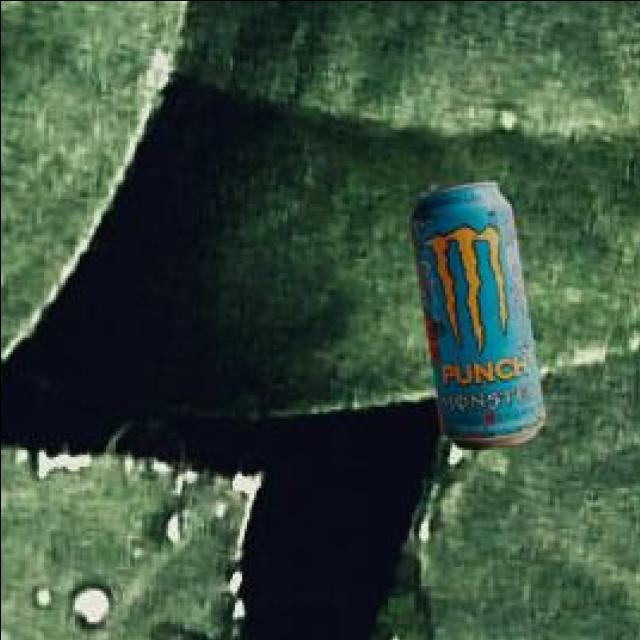logam: (412, 185, 548, 453)
